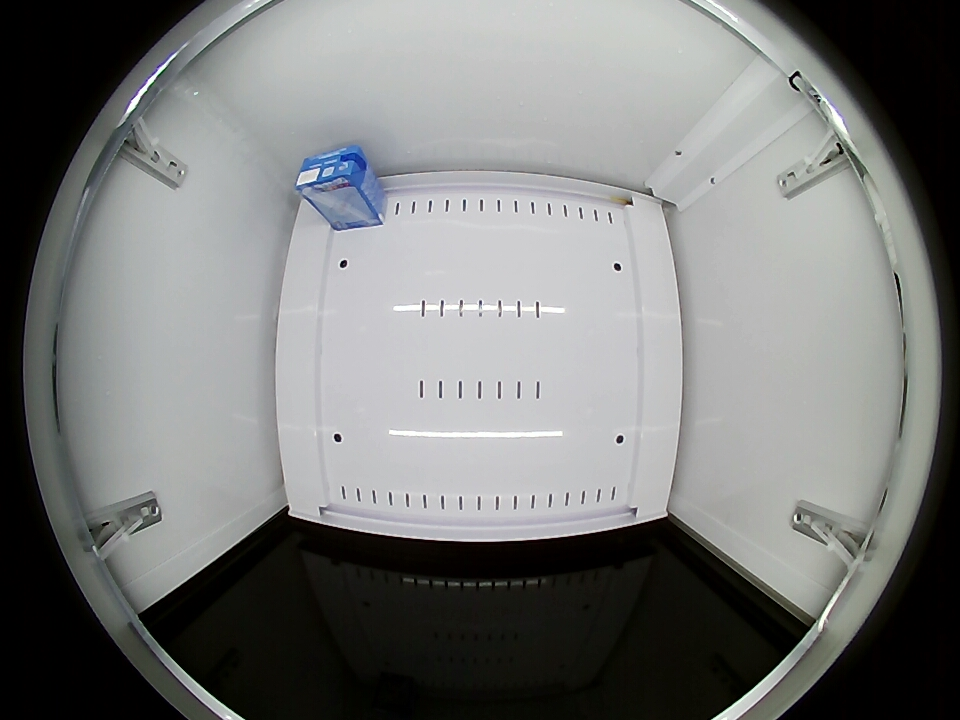weitanai: (294, 145, 371, 202)
